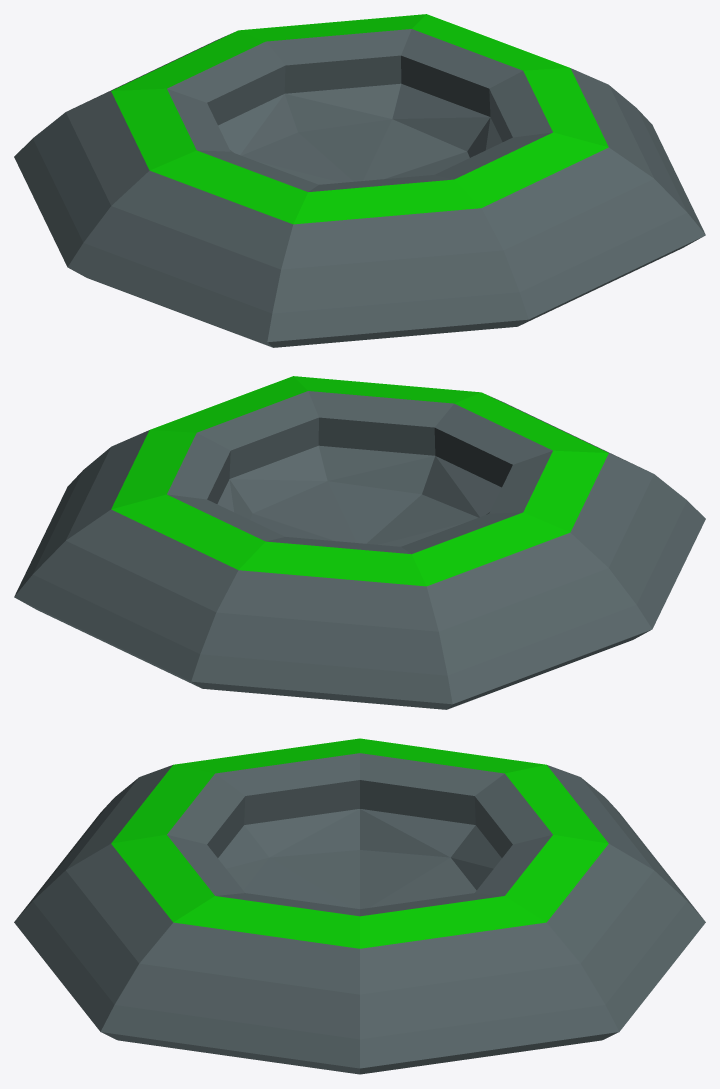
Rendered from SwitchGreen.fbx.
3 views of the same model, one above another, from view 1: azimuth 30°, elevation 25°; view 2: azimuth 150°, elevation 25°; view 3: azimuth 270°, elevation 25° (orthographic). The views are drawn at different scales.
Visible parts, largest first — view 1: SwitchGreen; view 2: SwitchGreen; view 3: SwitchGreen.
Boxes of the visible parts, box(x1,y1,x2,y2) form: SwitchGreen: box(14, 14, 705, 347); SwitchGreen: box(14, 376, 705, 709); SwitchGreen: box(14, 738, 705, 1074).
Bounding box in the file's own units: 285 × 57.93 × 285.
